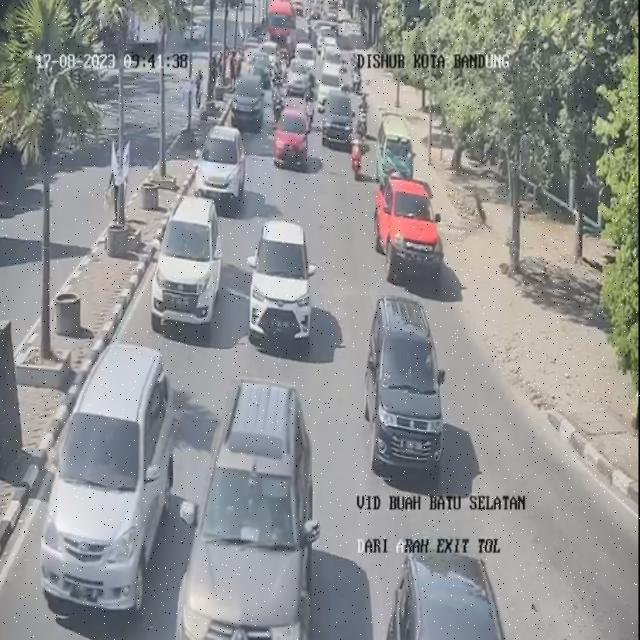cars: (41, 342, 173, 614), (187, 379, 312, 640), (366, 291, 436, 470), (394, 545, 514, 640), (156, 196, 220, 330), (249, 220, 310, 340), (383, 177, 442, 278), (206, 121, 247, 206), (376, 112, 412, 190), (274, 102, 306, 164), (237, 67, 266, 129), (324, 84, 352, 147), (295, 48, 316, 98), (320, 60, 339, 100), (290, 61, 309, 100), (298, 44, 318, 74), (318, 22, 336, 49)
motorcycle: (349, 126, 367, 184), (358, 92, 372, 132), (351, 62, 363, 97)
truck: (266, 0, 296, 48)
